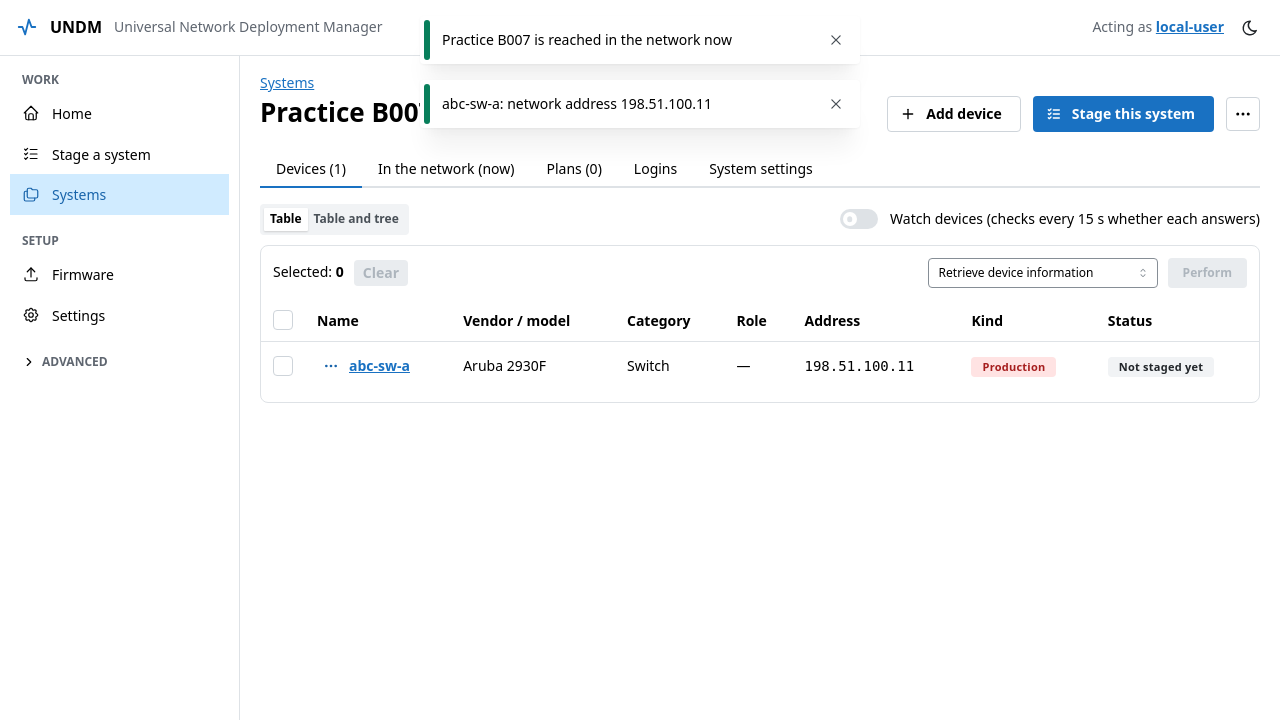
after staging: the system in the network (D-125) › in the network, the device menu keeps changes for the bench
The image size is (1280, 720).
Click the button named "Actions for abc-sw-a": (331, 366) [317, 352, 345, 380]
(page scrolled)
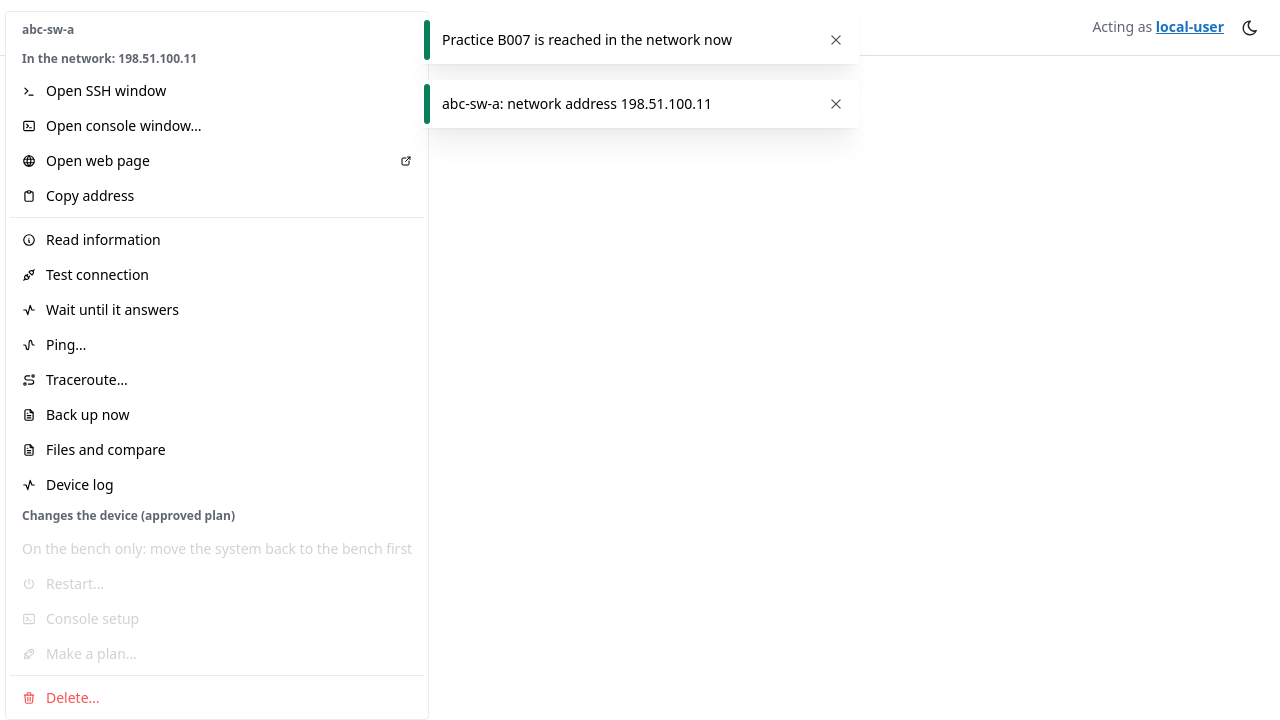
Expected: the text "In the network: 198.51.100.11" is shown, [22, 50, 197, 67]
Expected: the menu item "Restart…" is disabled, [10, 566, 424, 601]
Expected: the menu item "Make a plan…" is disabled, [10, 636, 424, 671]
